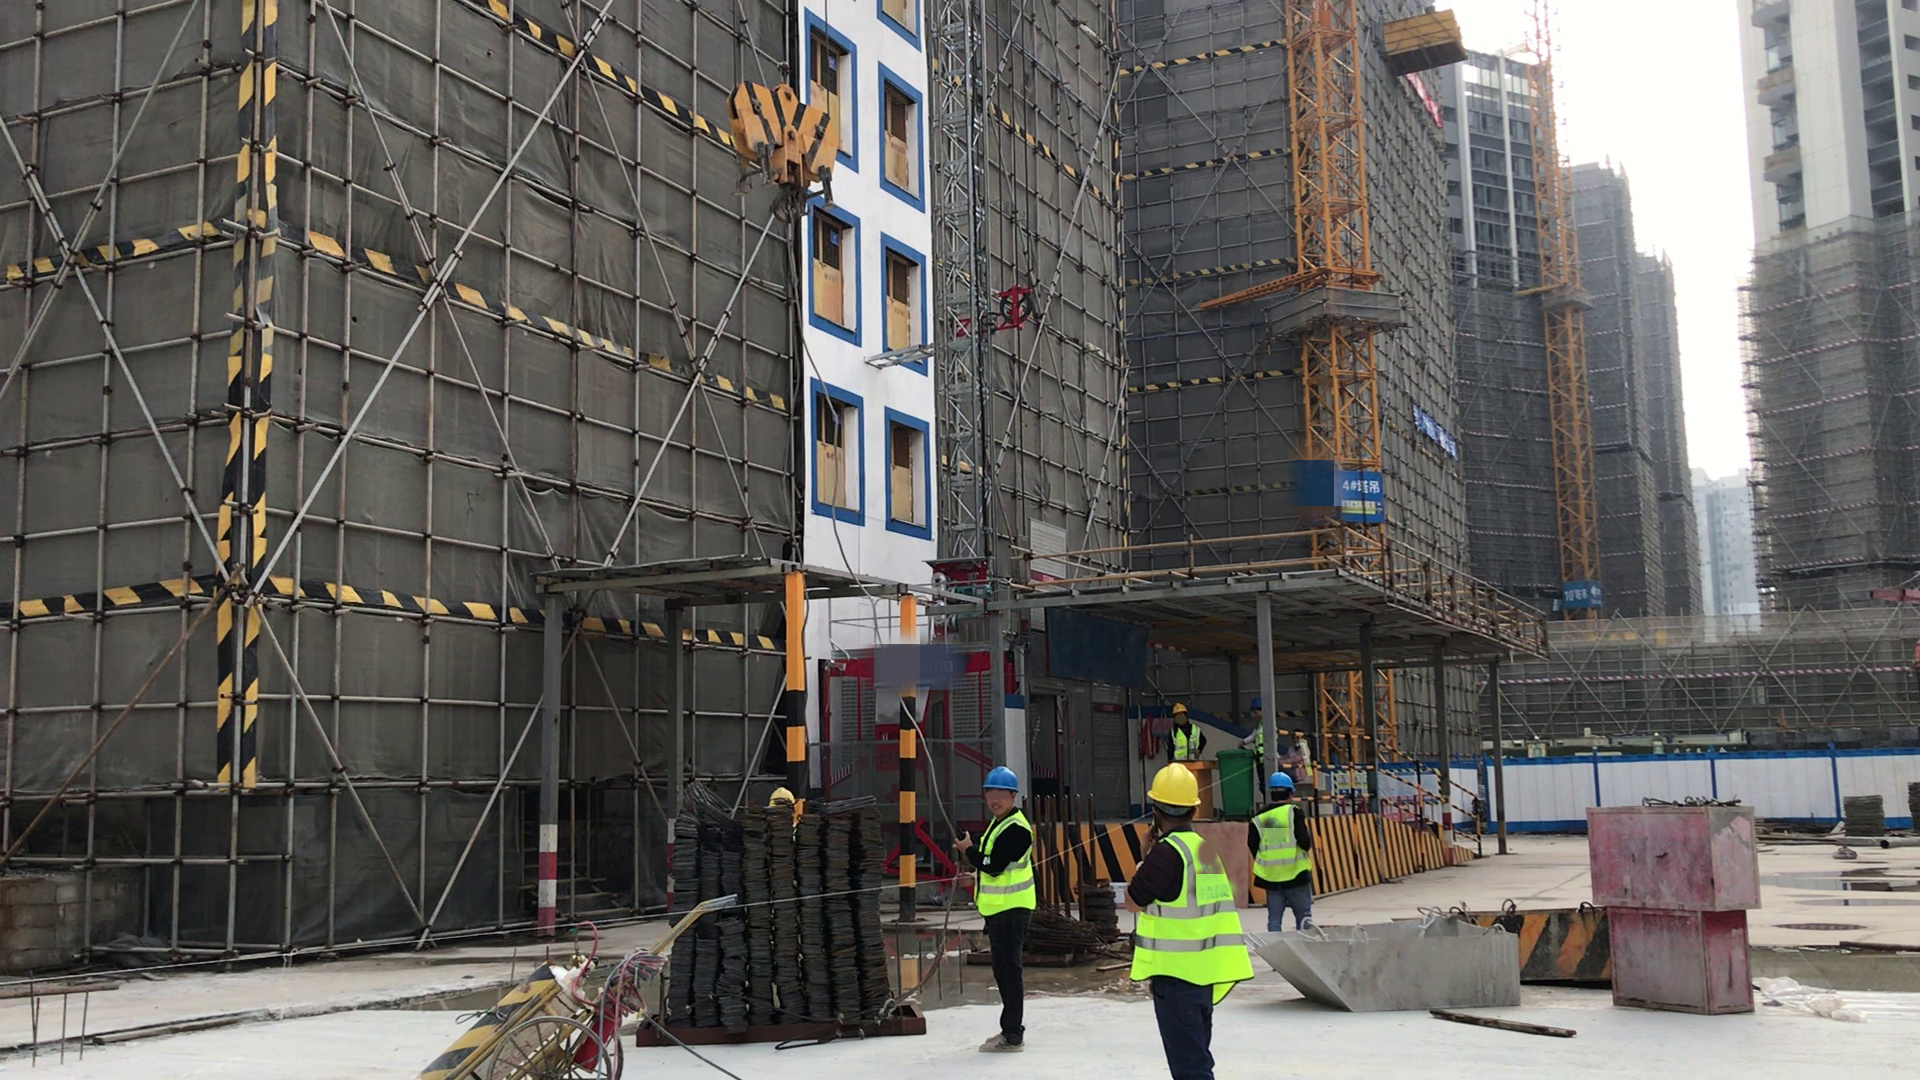fence: (1308, 718, 1523, 868)
handcart: (424, 860, 706, 1080)
helmet: (1142, 759, 1201, 813), (1258, 762, 1301, 798), (979, 757, 1020, 793), (761, 777, 804, 807), (1169, 699, 1190, 713), (1247, 693, 1266, 710)
hook: (700, 59, 859, 234)
hopper: (1244, 915, 1532, 1021), (1477, 892, 1614, 1002)
person: (1136, 764, 1251, 1080), (966, 761, 1034, 1051), (1256, 771, 1323, 933), (1239, 694, 1281, 801), (1289, 726, 1326, 812), (1168, 701, 1214, 762)
slogan: (1395, 388, 1471, 461)
vest: (1132, 828, 1255, 1001), (977, 806, 1048, 926), (1246, 805, 1317, 892), (1244, 720, 1274, 777), (1171, 722, 1207, 766)
